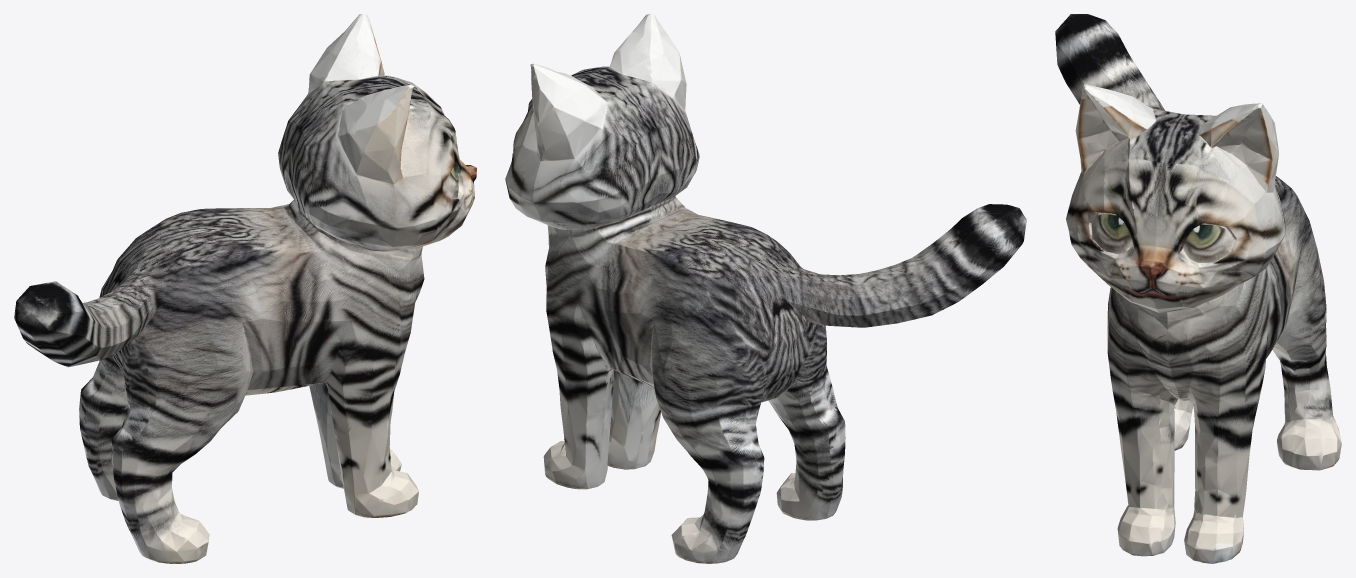
File: MILLRACE.glb
3 renders of one model, left to right at view 1: azimuth 30°, elevation 25°; view 2: azimuth 150°, elevation 25°; view 3: azimuth 270°, elevation 25°, orthographic. The views are drawn at different scales.
Parts seen in each view (by area): view 1: fit; view 2: fit; view 3: fit.
Part boxes in pixels (bbox=[...]): fit: bbox=[14, 14, 476, 563]; fit: bbox=[505, 14, 1026, 563]; fit: bbox=[1055, 14, 1341, 563].
Bounding box in the file's own units: 1.16 × 0.9997 × 0.5691.
1 material, 1 textured.
